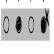correct: (16, 14, 22, 35)
not correct: (41, 8, 49, 35)
